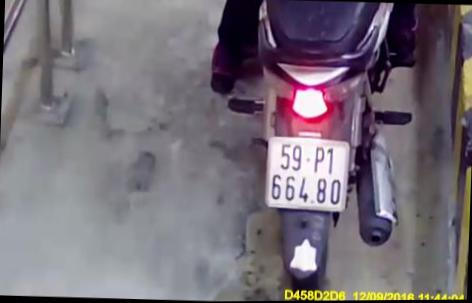LP: (264, 135, 352, 214)
